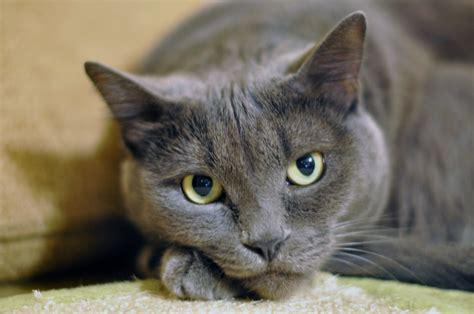cat: (85, 1, 474, 300)
